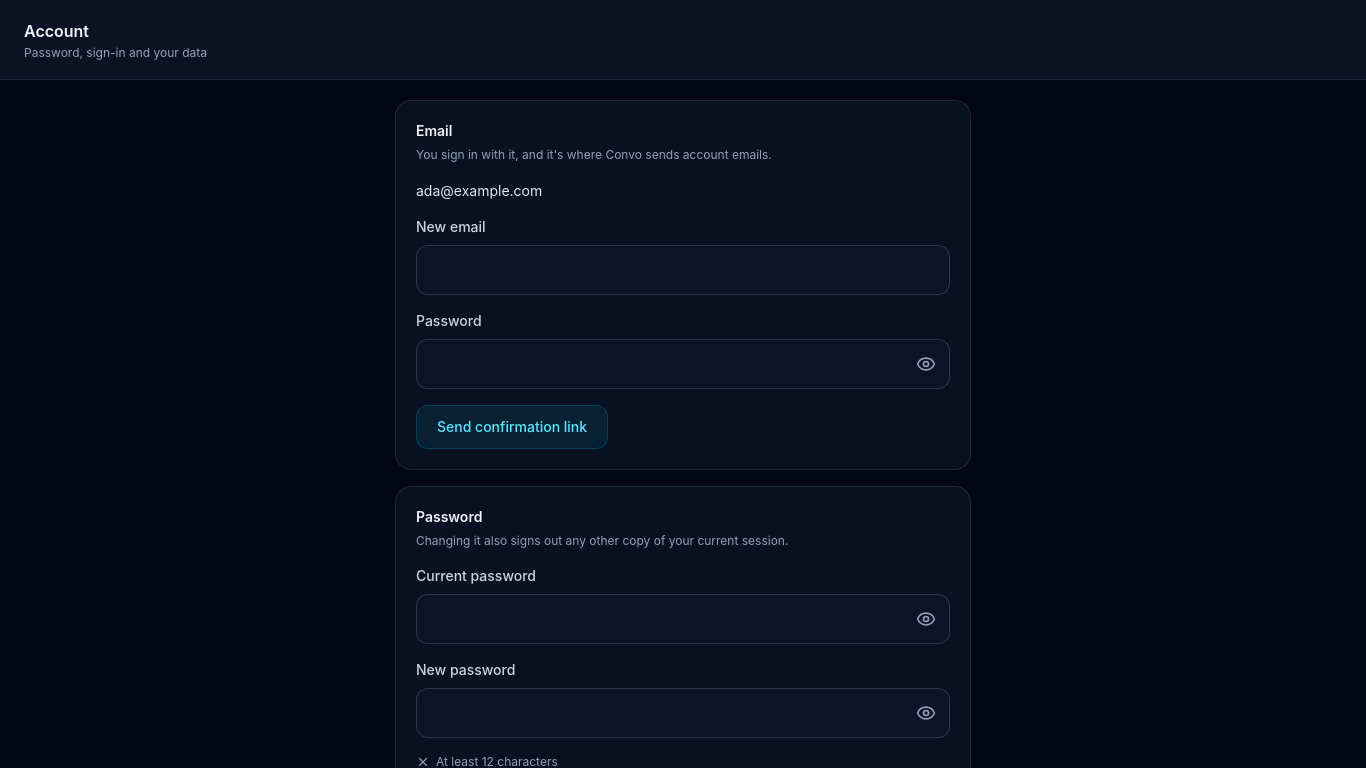
Test case: changing the email › shows the server's refusal on the field it is about
The width and height of the screenshot is (1366, 768).
Type "bob@example.com" into the field labelled "New email".
click(683, 270); type("bob@example.com")  # box 416,244 -> 950,294
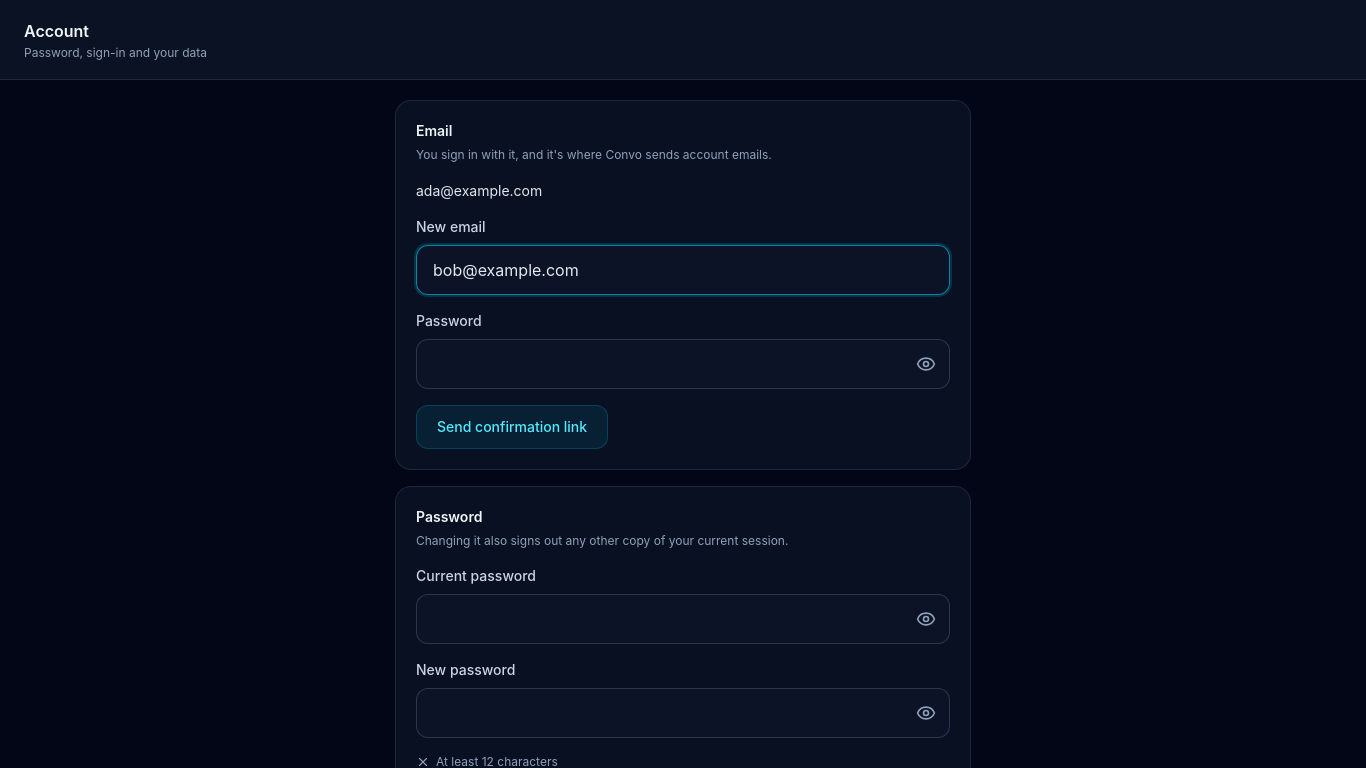
Type "guess" into the password field labelled "Password".
click(683, 364); type("guess")  # box 416,338 -> 950,388
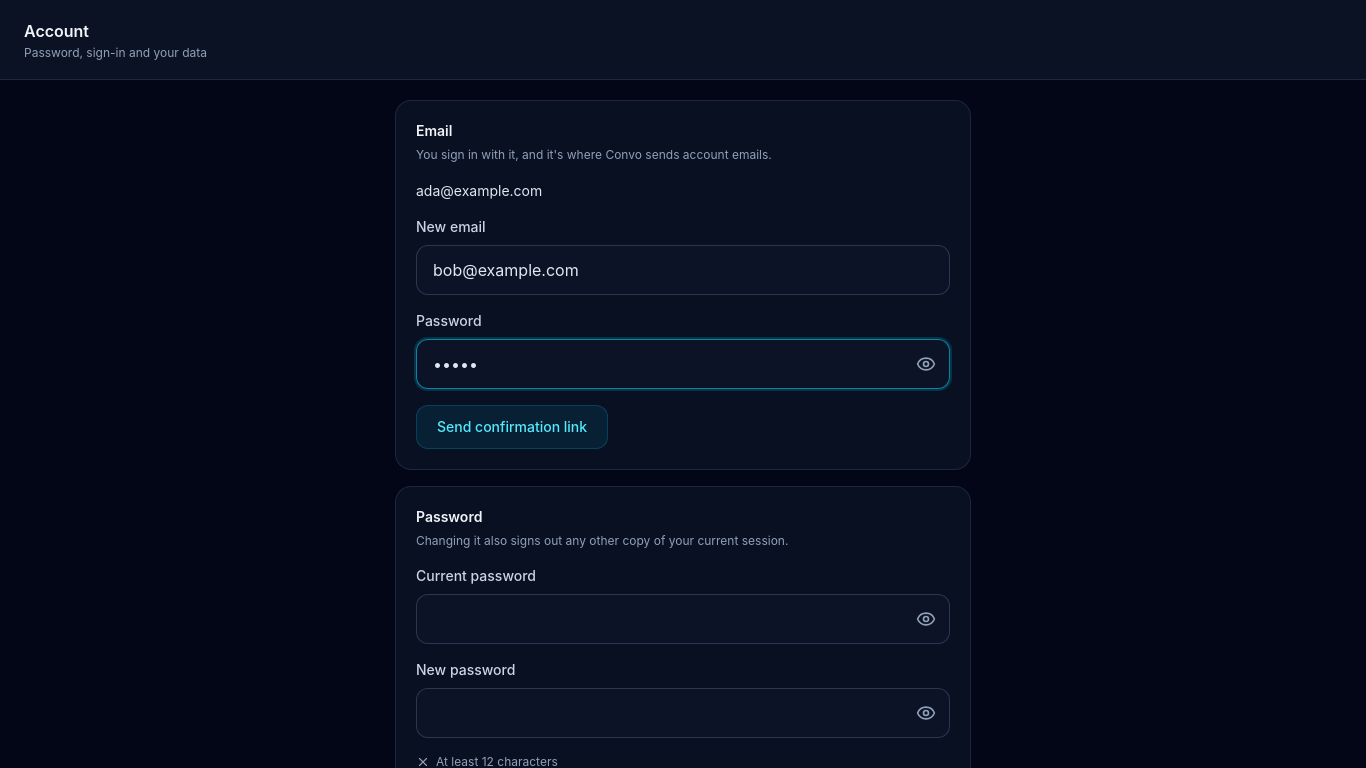
Click the button "Send confirmation link".
click(512, 426)  # box 416,404 -> 608,448
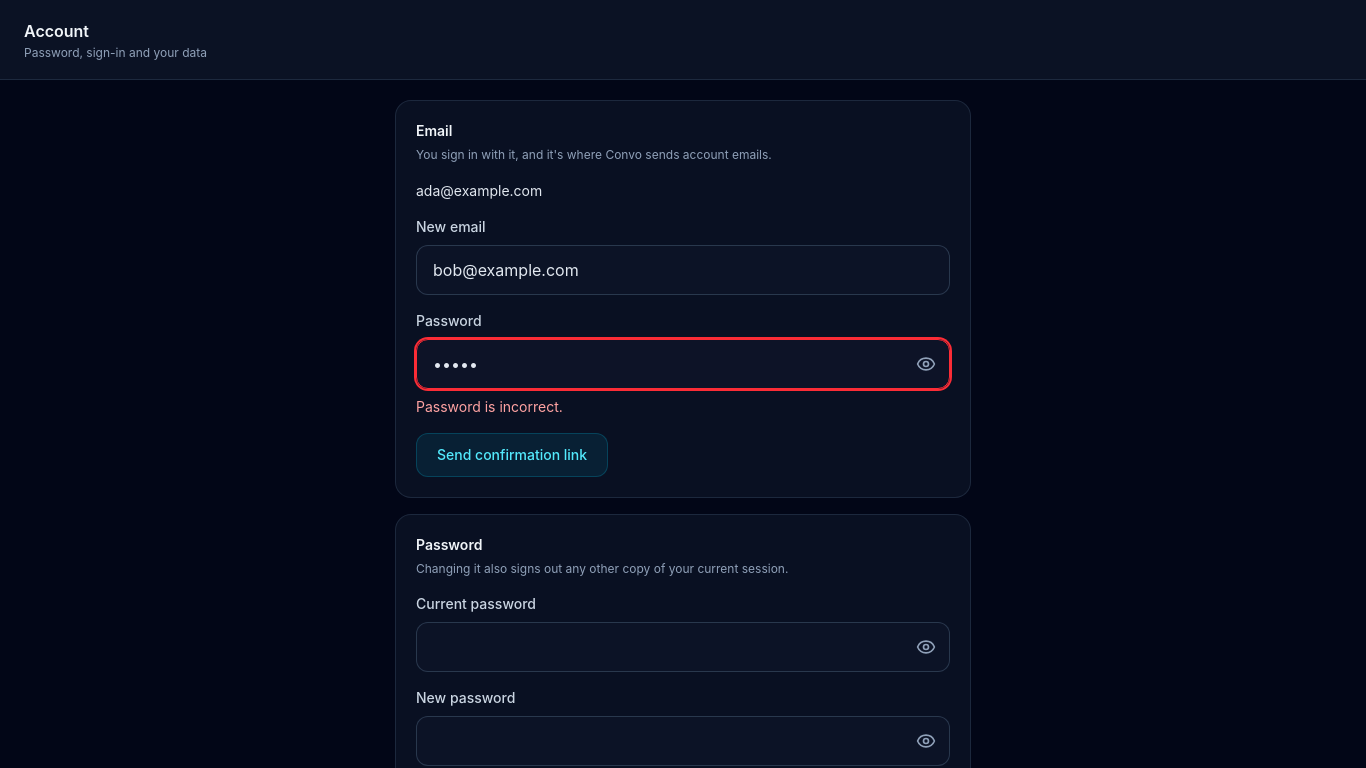
Expected: the text "Password is incorrect." is shown, 416,398 -> 563,414
Click the button "Send confirmation link".
click(512, 454)  # box 416,432 -> 608,476
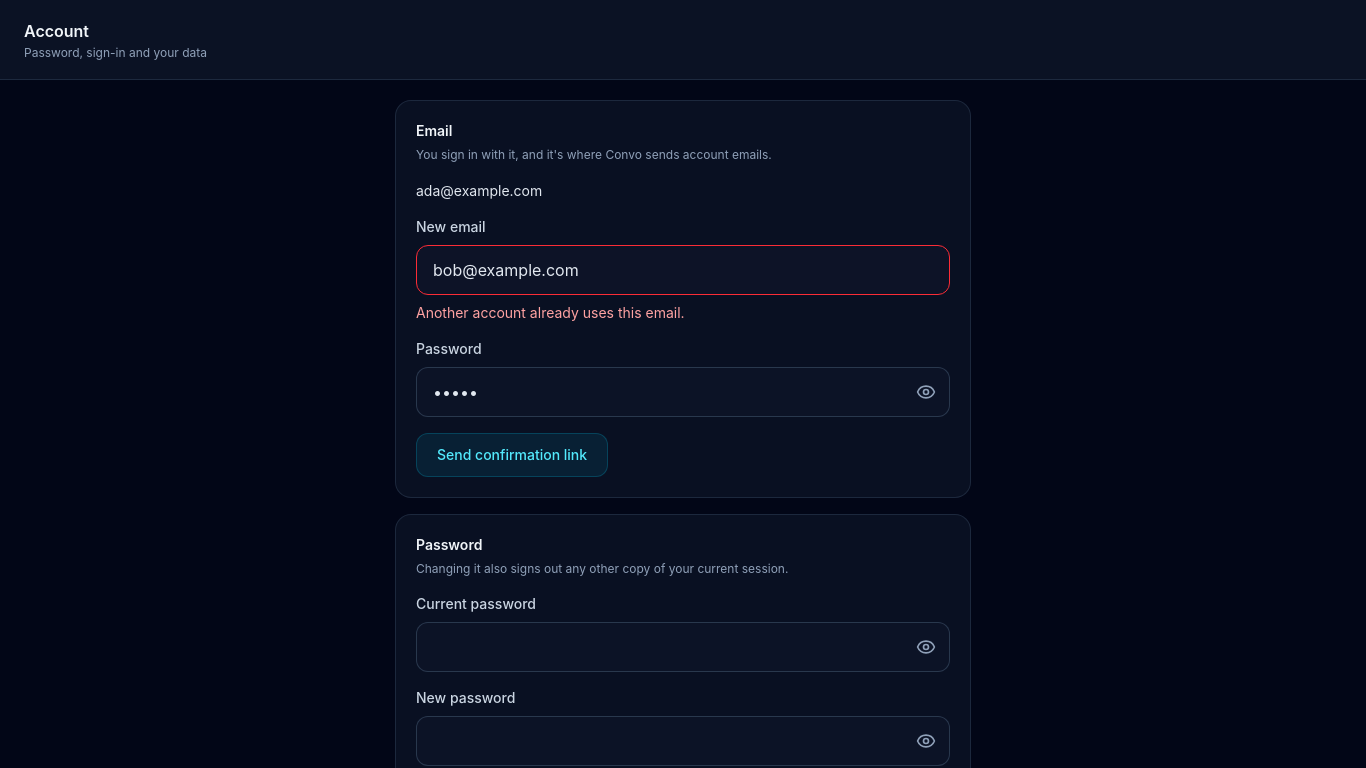
Expected: the text "Another account already uses this email." is shown, 416,304 -> 685,320
